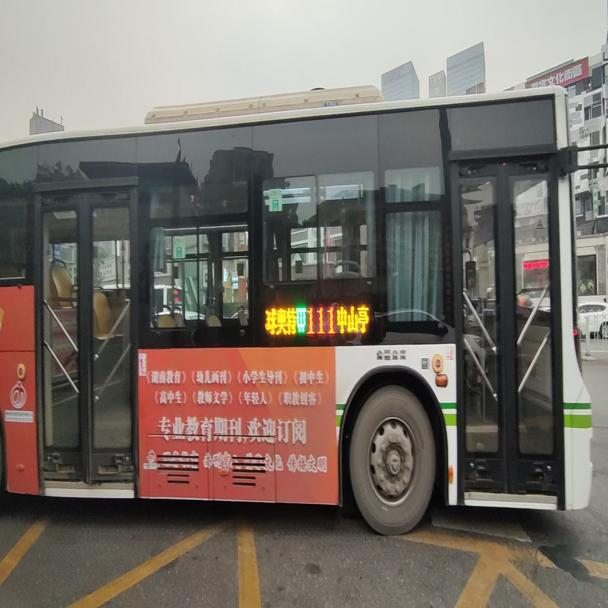bus: (2, 81, 598, 540)
screen: (307, 301, 334, 337)
